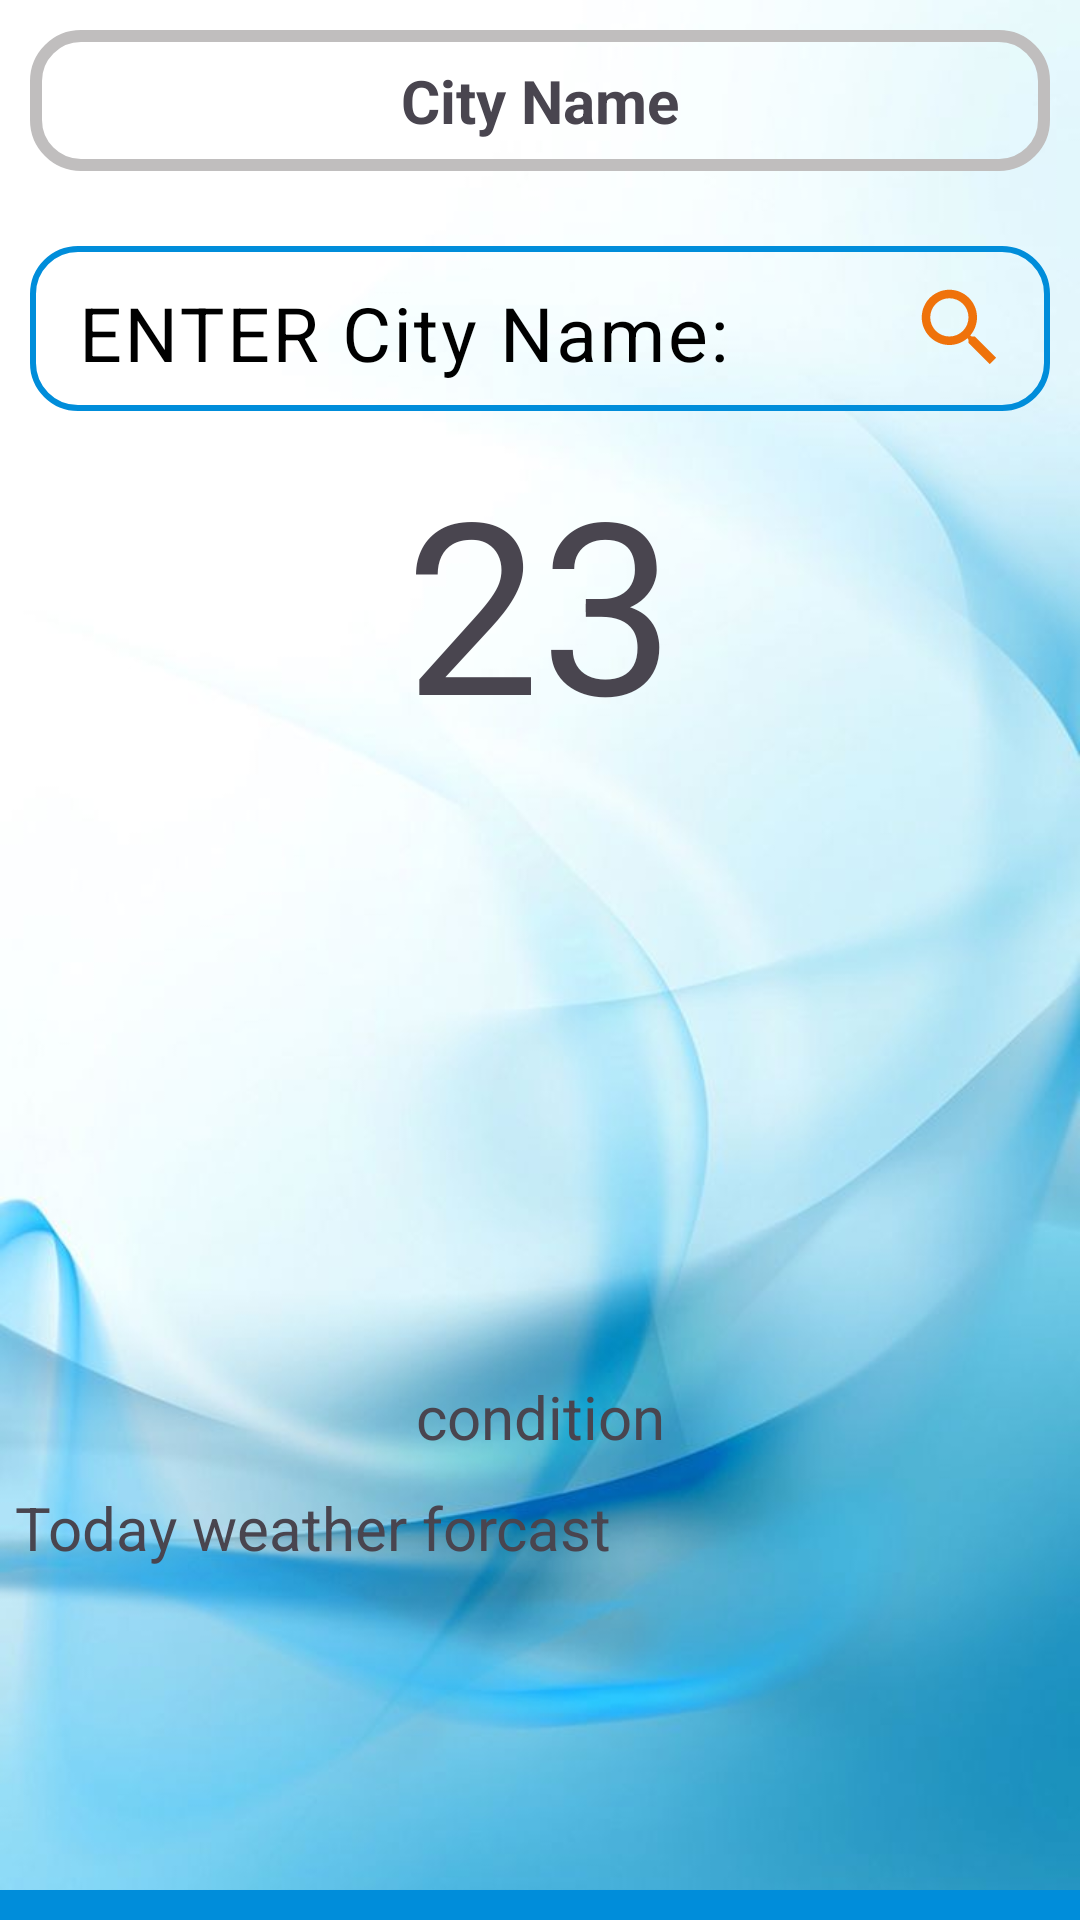

Where icons sit on this 1080*1920 app screen, as (x1, y1, x2, y2):
search: (921, 289, 996, 364)
